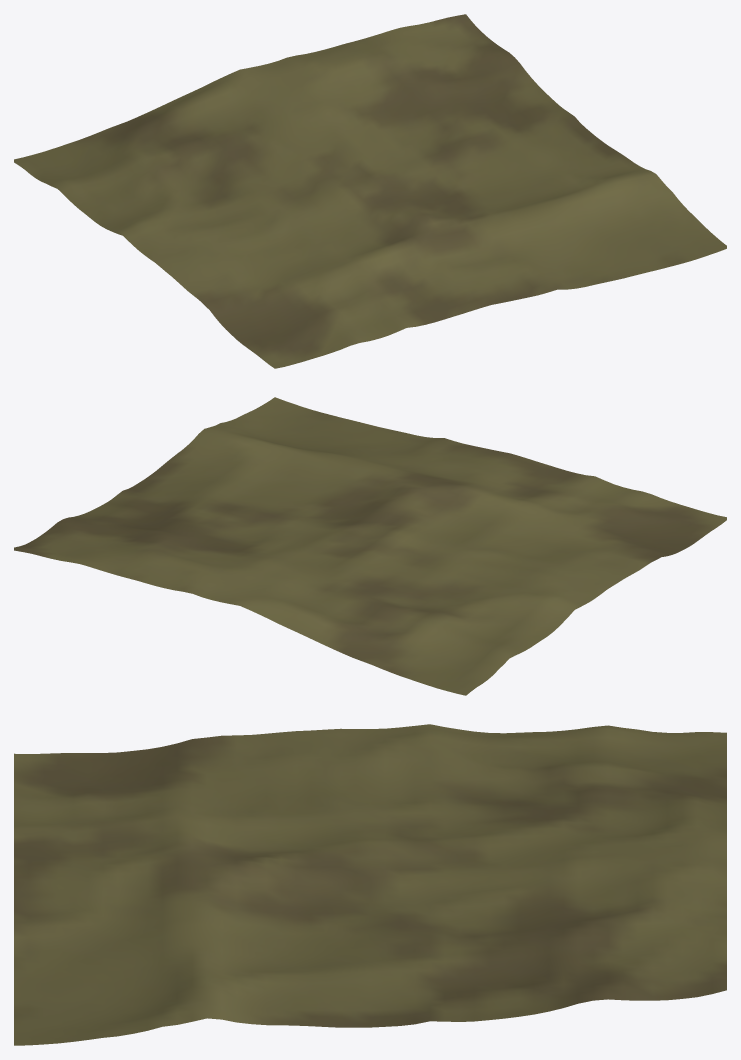
File: land_m_08_11.glb
3 renders of one model, top to bottom at view 1: azimuth 30°, elevation 25°; view 2: azimuth 150°, elevation 25°; view 3: azimuth 270°, elevation 25°, orthographic. The views are drawn at different scales.
Visible parts, largest first — view 1: land_m_08_11; view 2: land_m_08_11; view 3: land_m_08_11.
Part boxes in pixels (x1,y1,x2,y2): land_m_08_11: (14,14,726,368); land_m_08_11: (14,397,726,695); land_m_08_11: (14,724,726,1045).
Size of the model in its own units: 960 by 116 by 960.
